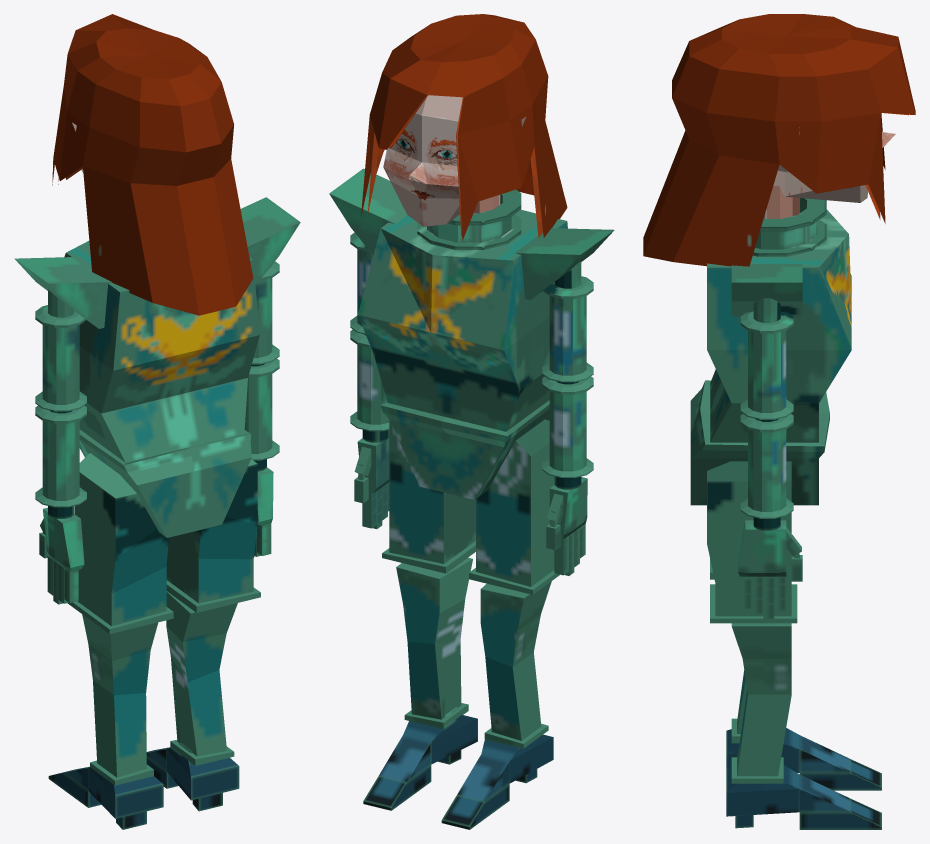
Rendered from Lady_Gezets.fbx.
3 renders of one model, left to right at view 1: azimuth 30°, elevation 25°; view 2: azimuth 150°, elevation 25°; view 3: azimuth 270°, elevation 25°, orthographic. The views are drawn at different scales.
Visible parts, largest first — view 1: hair_outline, body, cuboid_30, cuboid_31, cuboid_64, cuboid_63, cylinder, cylinder_2, cuboid_32, shoulder, cuboid_65, shoulder_2 (+4 smaller); view 2: body, hair_outline, cuboid_30, cuboid_64, cuboid_31, cuboid_63, head, cuboid_65, cuboid_32, cylinder, cylinder_2, shoulder (+7 smaller); view 3: hair_outline, body, cuboid_64, cuboid_63, cuboid_65, cylinder_5, cylinder_7, cuboid_32, shoulder_2, neck_armour, cuboid_33, head (+3 smaller).
Part boxes in pixels (box(x1,y1,x2,y2)): hair_outline: box(52, 14, 253, 315); body: box(64, 241, 259, 537); cuboid_30: box(67, 453, 173, 633); cuboid_31: box(82, 614, 158, 785); cuboid_64: box(166, 591, 237, 765); cuboid_63: box(166, 459, 260, 612); cylinder: box(35, 305, 86, 411); cylinder_2: box(35, 405, 86, 507); cuboid_32: box(48, 766, 163, 829); shoulder: box(14, 256, 111, 328); cuboid_65: box(146, 742, 239, 811); shoulder_2: box(240, 197, 300, 285); body: box(358, 209, 567, 499); hair_outline: box(361, 14, 567, 240); cuboid_30: box(469, 419, 559, 594); cuboid_64: box(396, 557, 472, 729); cuboid_31: box(480, 581, 551, 748); cuboid_63: box(382, 421, 475, 573); head: box(383, 95, 525, 226); cuboid_65: box(363, 707, 477, 810); cuboid_32: box(441, 734, 553, 829); cylinder: box(542, 276, 593, 382); cylinder_2: box(542, 376, 593, 477); shoulder: box(514, 228, 614, 299); hair_outline: box(643, 14, 915, 266); body: box(690, 209, 851, 505); cuboid_64: box(731, 623, 791, 783); cuboid_63: box(707, 461, 797, 623); cuboid_65: box(726, 765, 881, 829); cylinder_5: box(740, 311, 793, 419); cylinder_7: box(740, 413, 793, 518); cuboid_32: box(726, 728, 881, 790); shoulder_2: box(731, 264, 802, 316); neck_armour: box(753, 198, 826, 256); cuboid_33: box(738, 520, 786, 576); head: box(775, 127, 895, 202).
Bounding box in the file's own units: 172 × 487 × 156.
Materials: 8 (8 with a texture image).
